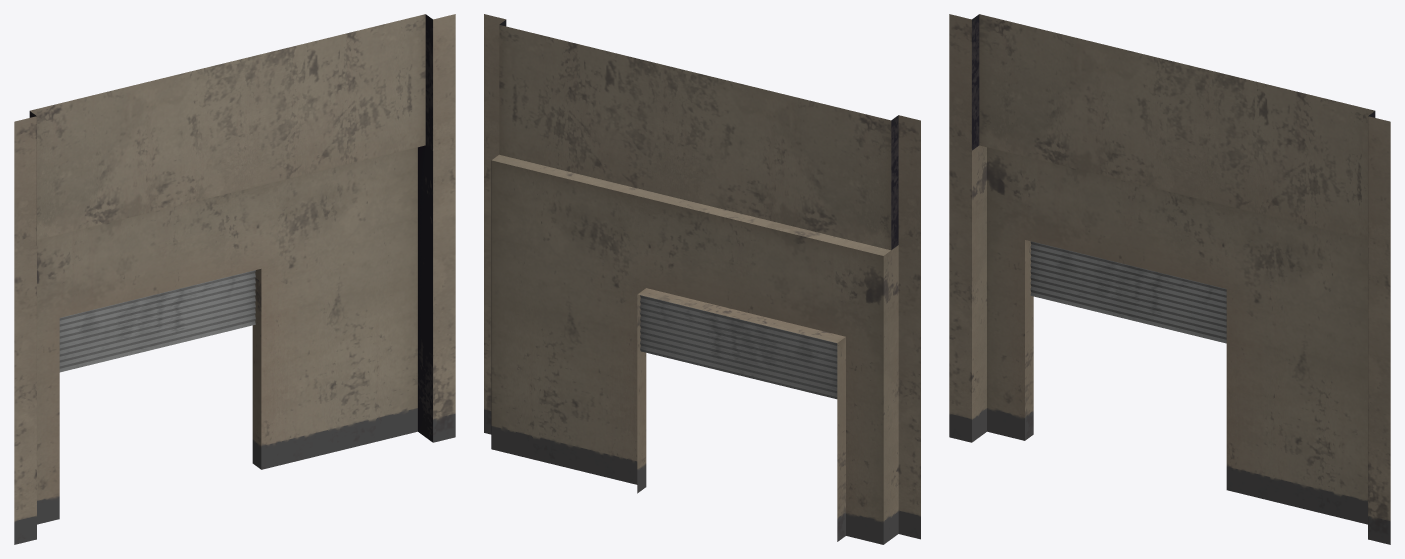
File: Wall_4.fbx
The picture shows the model from 3 angles, left to right: view 1: azimuth 30°, elevation 25°; view 2: azimuth 150°, elevation 25°; view 3: azimuth 330°, elevation 25°; orthographic projection.
Visible parts, largest first — view 1: wall_1_garage; view 2: wall_1_garage; view 3: wall_1_garage.
Boxes of the visible parts, x1,y1,x2,y2 form: wall_1_garage: [14, 14, 455, 544]; wall_1_garage: [484, 14, 920, 544]; wall_1_garage: [949, 14, 1390, 544].
Bounding box in the file's own units: 1200 × 1100 × 113.
